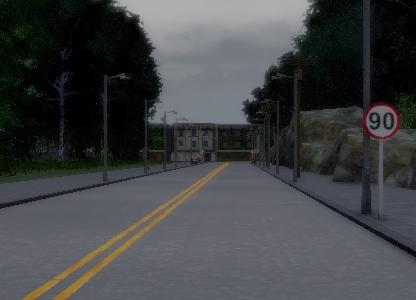Speed_90: (366, 102, 401, 142)
